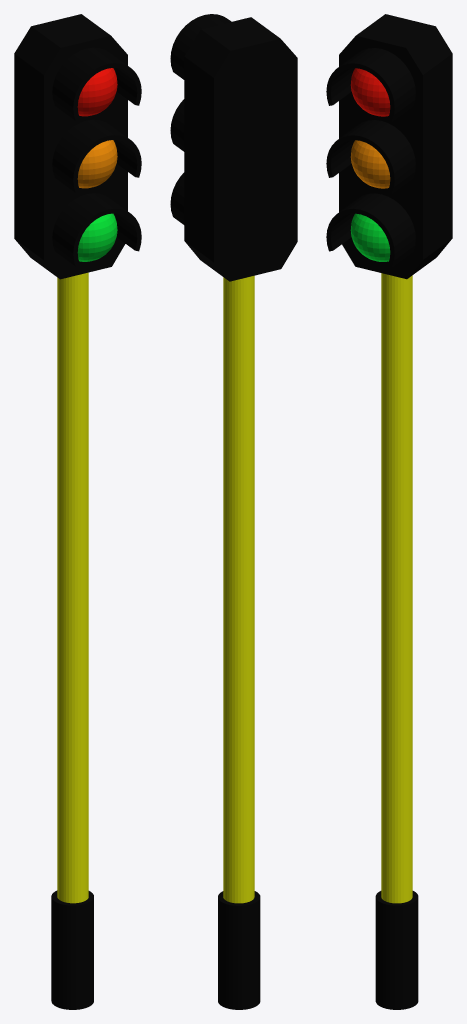
The model's file is Traffic_light_2.fbx.
3 renders of one model, left to right at view 1: azimuth 30°, elevation 25°; view 2: azimuth 210°, elevation 25°; view 3: azimuth 330°, elevation 25°, orthographic.
Visible parts, largest first — view 1: Pole.003, TrafficLightBox.003, Cylinder.001, OrangeHat.003, RedHat.003, GreenHat.003, OrangeLight.003, RedLight.003, GreenLight.003; view 2: TrafficLightBox.003, Pole.003, Cylinder.001, RedHat.003, OrangeHat.003, GreenHat.003; view 3: Pole.003, TrafficLightBox.003, Cylinder.001, GreenHat.003, RedHat.003, OrangeHat.003, GreenLight.003, RedLight.003, OrangeLight.003.
Part boxes in pixels (bbox=[...]): Pole.003: bbox=[57, 272, 88, 903]; TrafficLightBox.003: bbox=[14, 14, 127, 279]; Cylinder.001: bbox=[51, 890, 93, 1009]; OrangeHat.003: bbox=[52, 119, 141, 192]; RedHat.003: bbox=[52, 47, 141, 120]; GreenHat.003: bbox=[52, 193, 141, 266]; OrangeLight.003: bbox=[77, 140, 117, 188]; RedLight.003: bbox=[77, 68, 117, 116]; GreenLight.003: bbox=[77, 213, 117, 261]; TrafficLightBox.003: bbox=[184, 17, 297, 281]; Pole.003: bbox=[223, 275, 254, 903]; Cylinder.001: bbox=[218, 891, 260, 1009]; RedHat.003: bbox=[170, 14, 231, 79]; OrangeHat.003: bbox=[170, 99, 184, 151]; GreenHat.003: bbox=[170, 172, 184, 224]; Pole.003: bbox=[381, 273, 412, 903]; TrafficLightBox.003: bbox=[339, 14, 452, 279]; Cylinder.001: bbox=[375, 891, 418, 1009]; GreenHat.003: bbox=[326, 193, 415, 266]; RedHat.003: bbox=[326, 48, 415, 121]; OrangeHat.003: bbox=[326, 120, 415, 193]; GreenLight.003: bbox=[350, 213, 390, 261]; RedLight.003: bbox=[350, 68, 390, 116]; OrangeLight.003: bbox=[350, 140, 390, 188].
Bounding box in the file's own units: 39.81 × 440 × 41.61.
